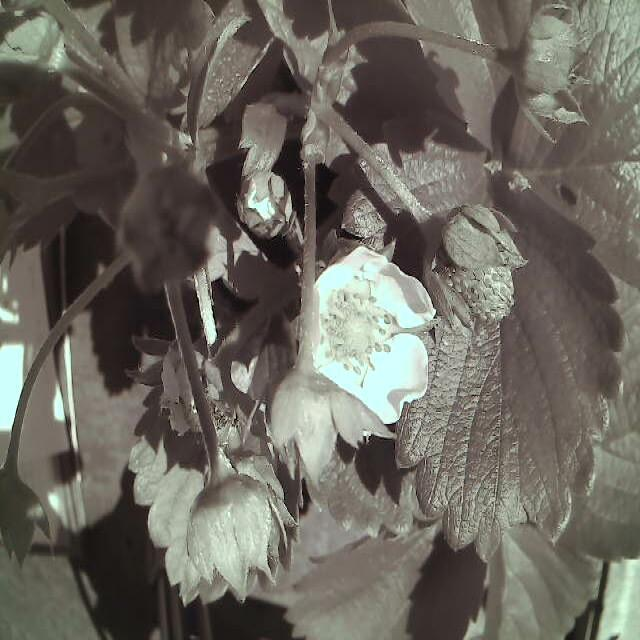flower: (304, 242, 444, 438)
